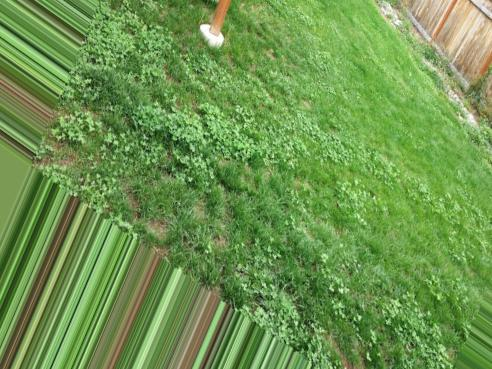patch: (129, 194, 169, 235), (53, 144, 78, 166)
